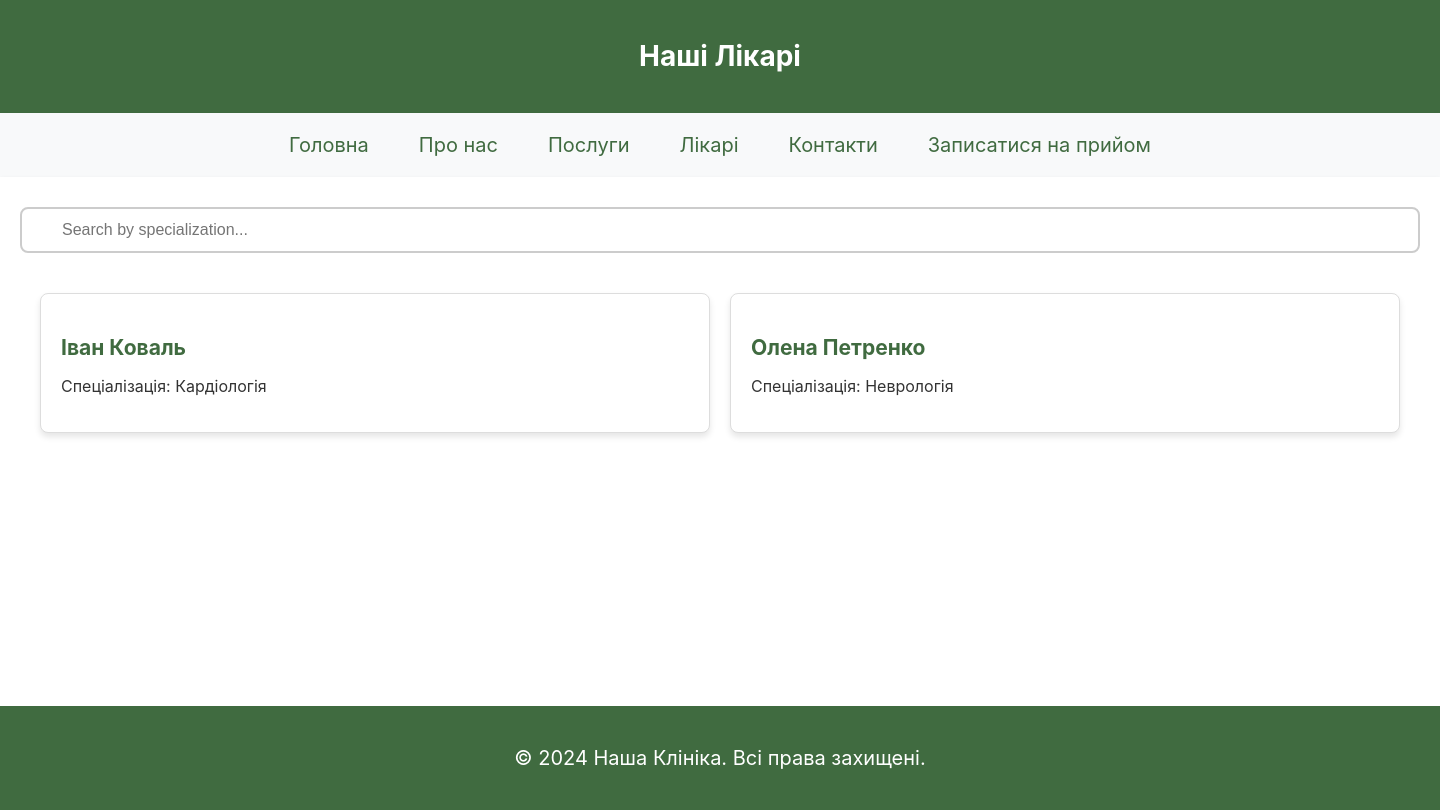
Test: Doctors Component › filters doctors based on search input
Expected: the heading "Іван Коваль" is shown, x1=61 y1=335 x2=186 y2=360
In the field with placeholder "Search by specialization...": (720, 230) x1=20 y1=207 x2=1420 y2=253, type "невро"
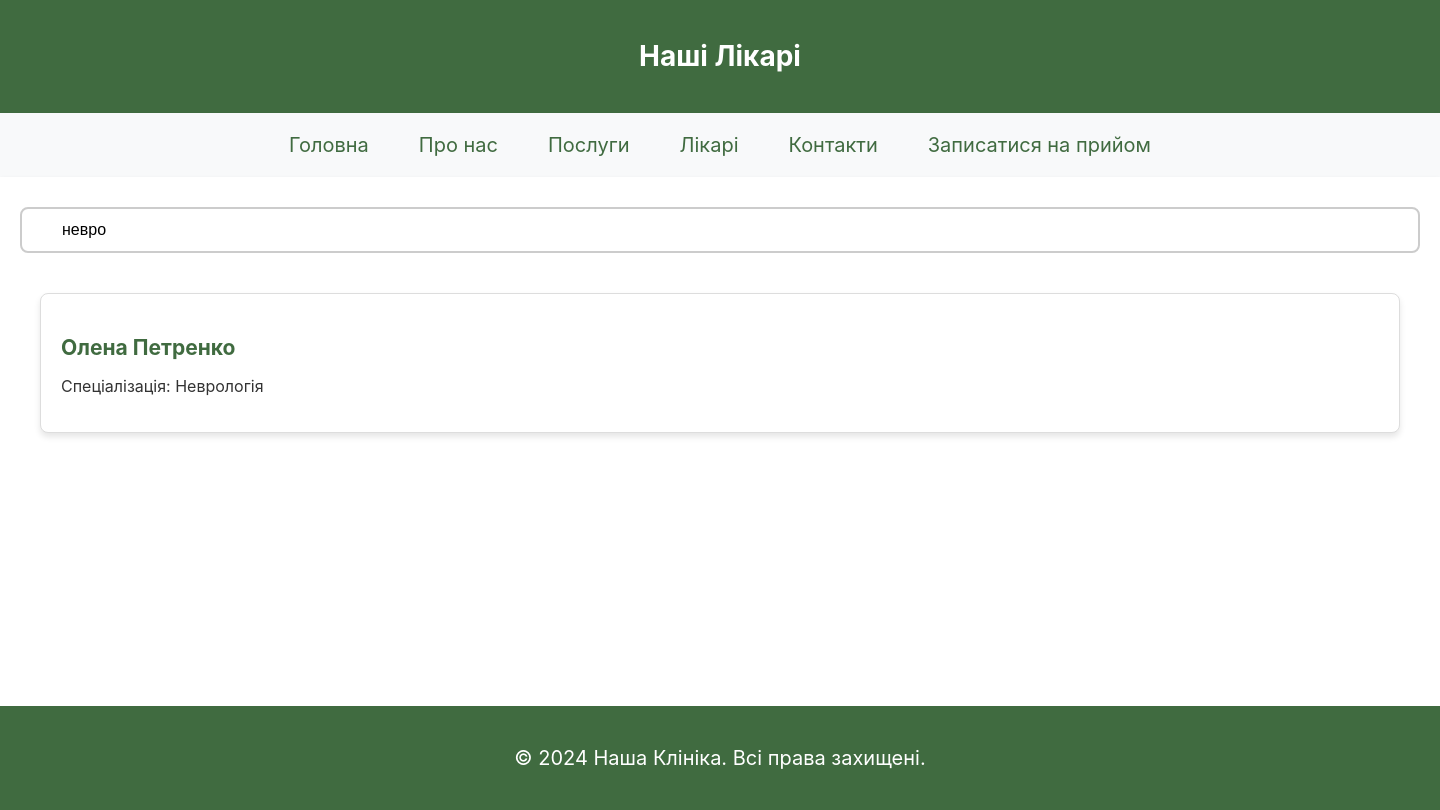
Expected: the heading "Олена Петренко" is shown, x1=61 y1=335 x2=236 y2=360
Result: the heading "Іван Коваль" is gone
